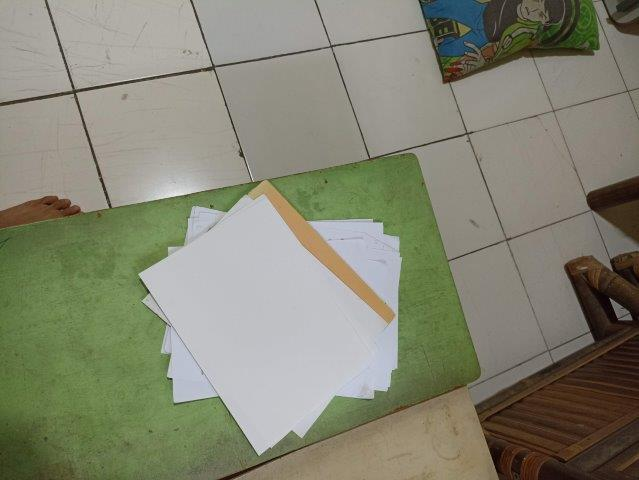kertas: (139, 180, 403, 456)
